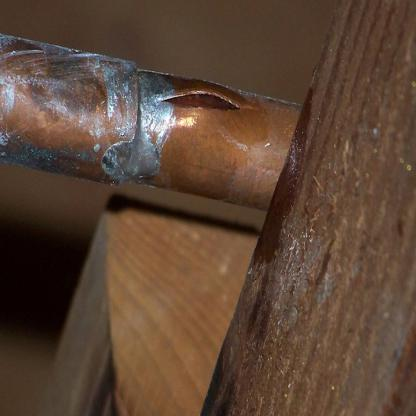burst: (146, 71, 251, 130)
